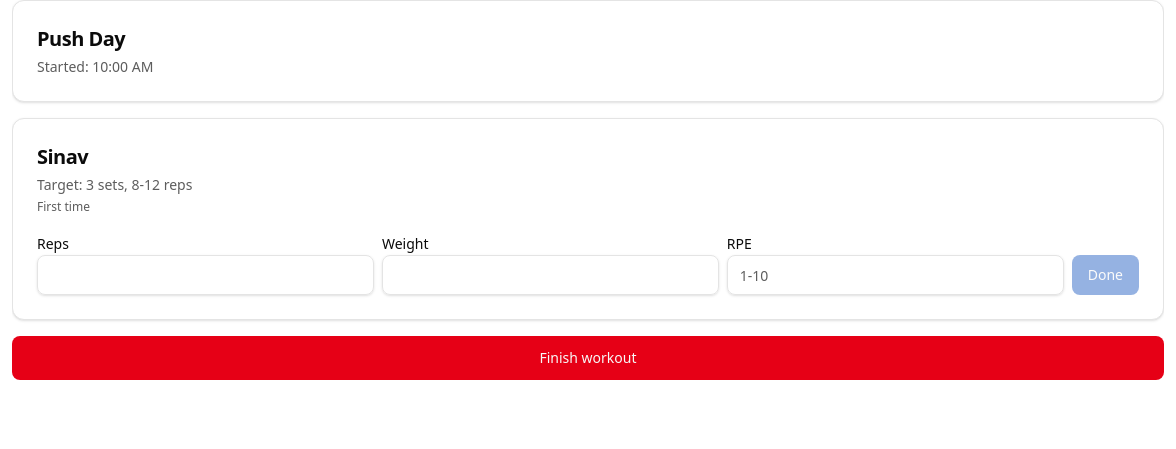
Test: SessionClient › posts a new set and appends it to the list
Expected: the button "Sinav" is shown, [37,143,88,171]
Type "10" into the number field labelled "Reps". click: [205, 275]
box: [37,255,374,295]
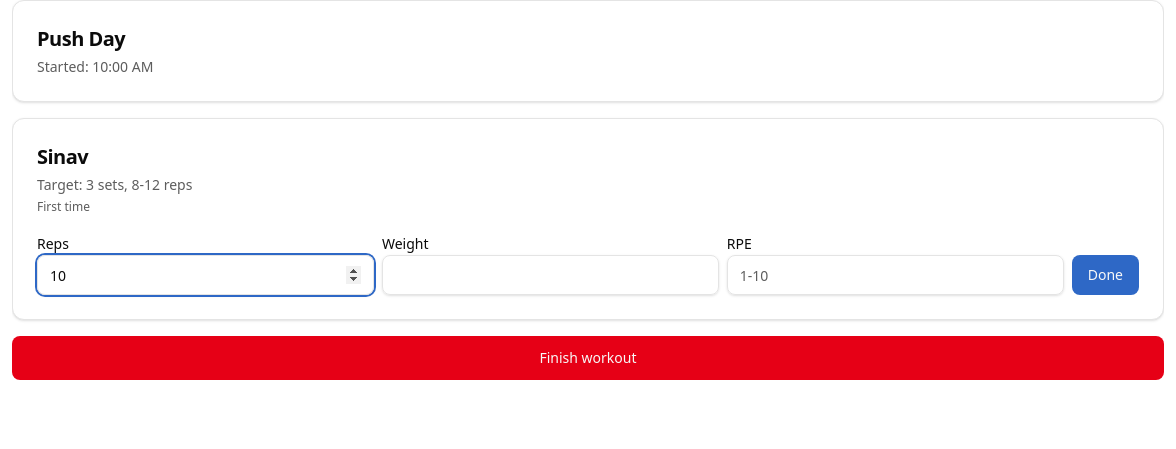
Type "20" into the number field labelled "Weight". click: [550, 275]
box: [382,255,719,295]
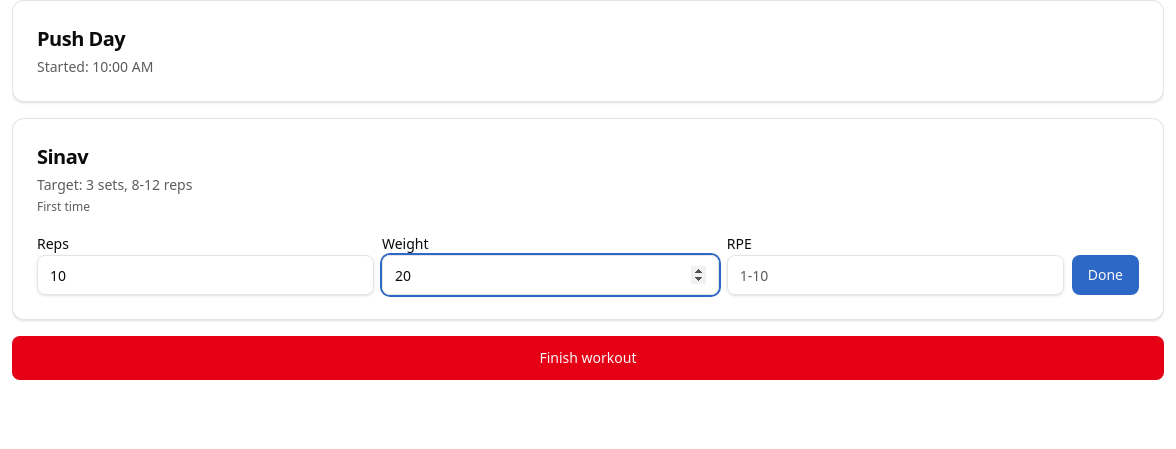
Click the button "Done". click: [1105, 275]
box: [1072,255,1139,295]
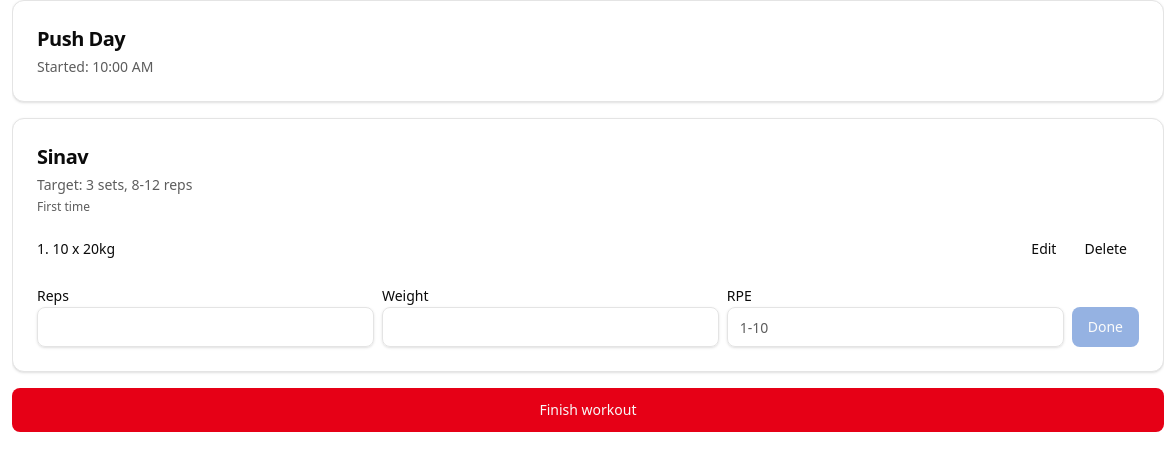
Expected: the text "1. 10 x 20kg" is shown, [37,239,115,259]
